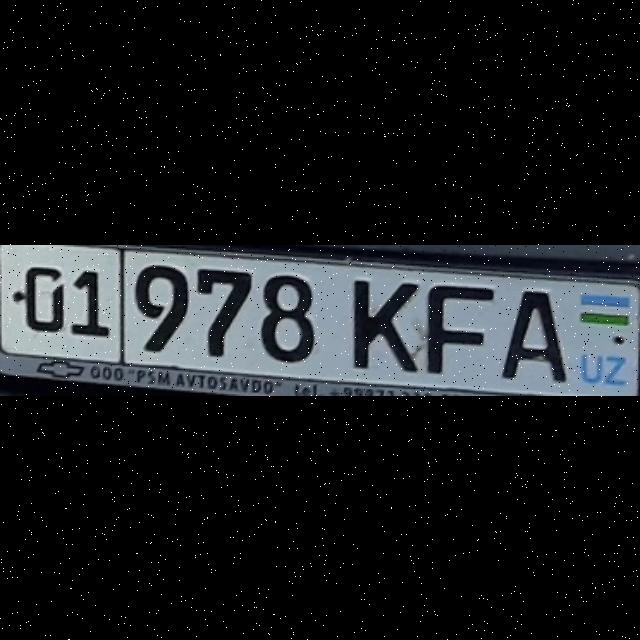0: (24, 264, 62, 330)
1: (70, 268, 108, 334)
7: (195, 266, 253, 354)
8: (258, 271, 314, 359)
9: (132, 261, 186, 349)
A: (500, 288, 566, 379)
F: (426, 282, 490, 370)
K: (352, 276, 418, 368)
